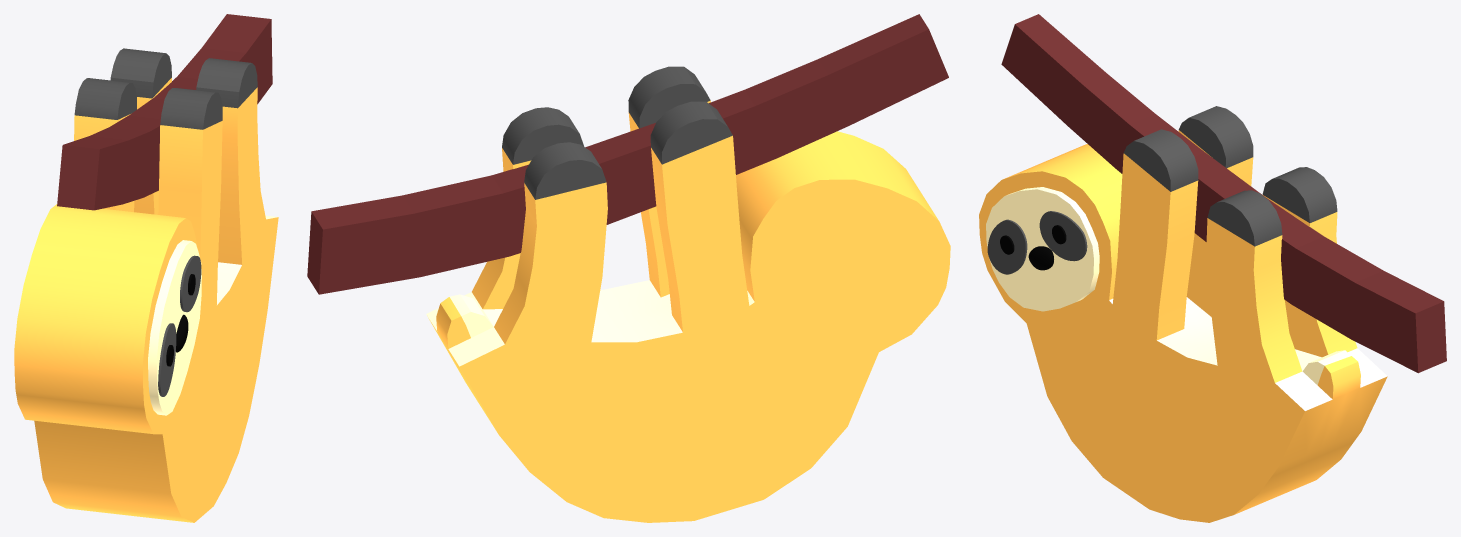
The model's file is sloth.gltf.
3 views of the same model, side by side, from view 1: azimuth 30°, elevation 25°; view 2: azimuth 150°, elevation 25°; view 3: azimuth 270°, elevation 25° (orthographic). The views are drawn at different scales.
Parts seen in each view (by area): view 1: Plane.144, Cube.6272, Circle.1931, Cube.6271; view 2: Plane.144, Cube.6272; view 3: Plane.144, Cube.6272, Circle.1931.
Boxes of the visible parts, x1,y1,x2,y2 form: Plane.144: (14, 48, 278, 522); Cube.6272: (57, 14, 272, 210); Circle.1931: (158, 255, 201, 396); Cube.6271: (176, 314, 188, 352); Plane.144: (426, 66, 950, 522); Cube.6272: (307, 14, 948, 294); Plane.144: (979, 106, 1387, 522); Cube.6272: (1001, 14, 1446, 373); Circle.1931: (987, 211, 1087, 274).
Size of the model in its own units: 2.21 by 2.11 by 2.21.
Materials: 1 (1 with a texture image).
